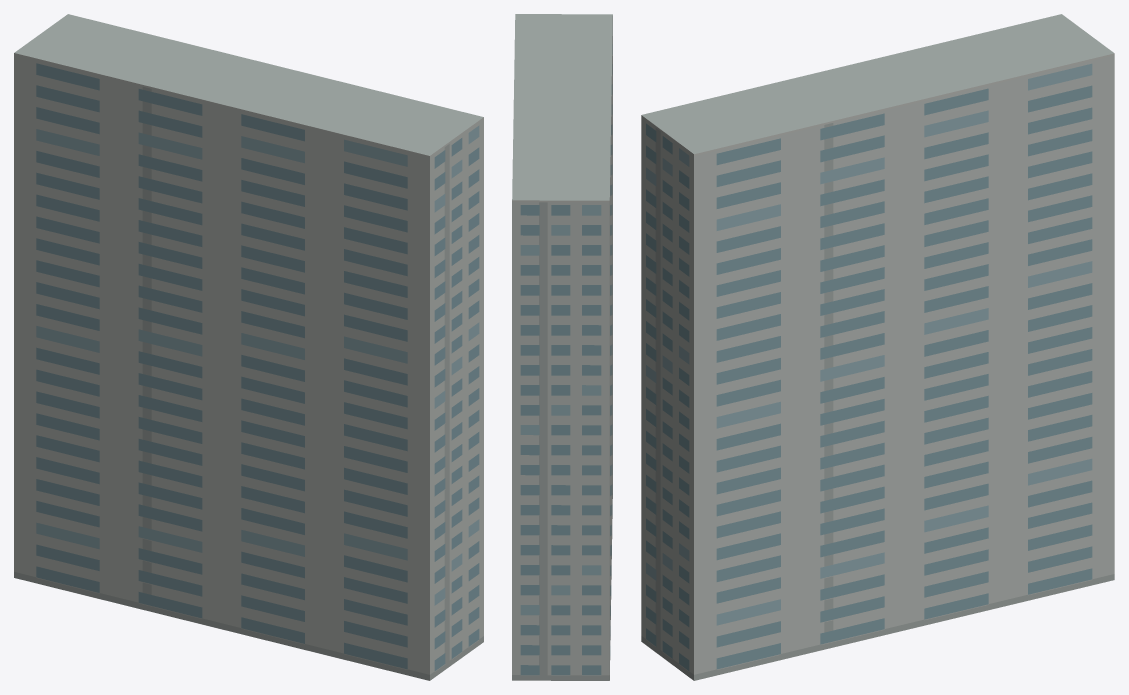
The model's file is residential-1b5711b4-ab43-4731-a9ea-4d7e149cbed9.glb.
The picture shows the model from 3 angles, left to right: view 1: azimuth 30°, elevation 25°; view 2: azimuth 150°, elevation 25°; view 3: azimuth 270°, elevation 25°; orthographic projection. The views are drawn at different scales.
Visible parts, largest first — view 1: residential-1b5711b4-ab43-4731-a9ea-4d7e149cbed9.tmp; view 2: residential-1b5711b4-ab43-4731-a9ea-4d7e149cbed9.tmp; view 3: residential-1b5711b4-ab43-4731-a9ea-4d7e149cbed9.tmp.
Boxes of the visible parts, x1=… form: residential-1b5711b4-ab43-4731-a9ea-4d7e149cbed9.tmp: x1=14, y1=14, x2=483, y2=680; residential-1b5711b4-ab43-4731-a9ea-4d7e149cbed9.tmp: x1=512, y1=14, x2=612, y2=680; residential-1b5711b4-ab43-4731-a9ea-4d7e149cbed9.tmp: x1=641, y1=14, x2=1114, y2=680.
Size of the model in its own units: 38.28 by 67 by 54.59.
